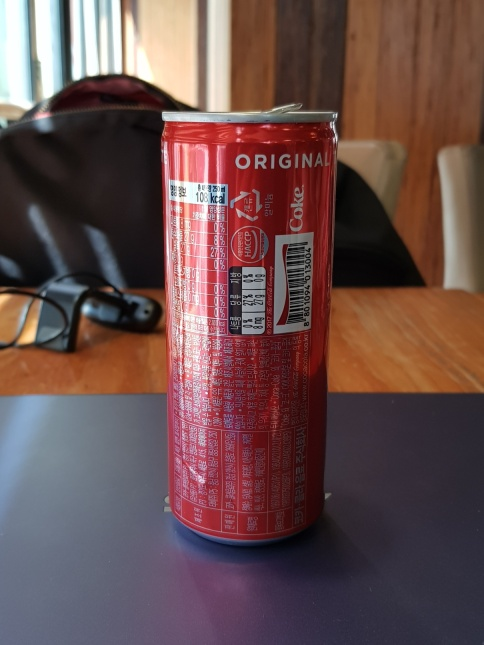Can: (151, 100, 341, 546)
